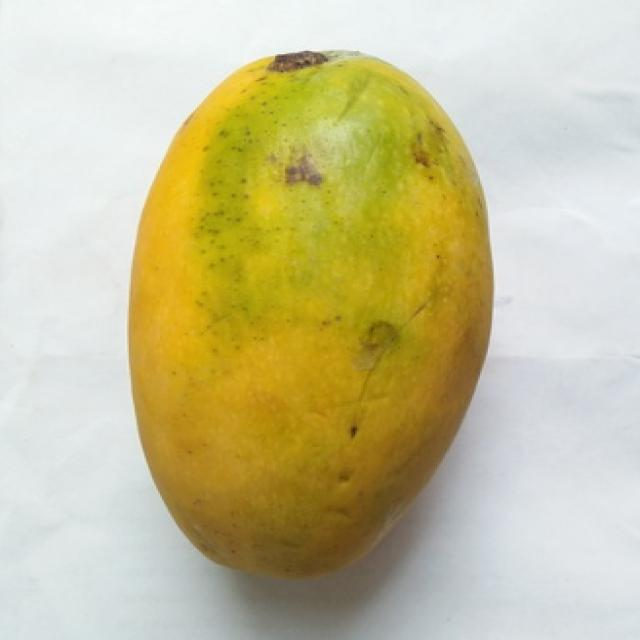Mango: (129, 53, 492, 573)
